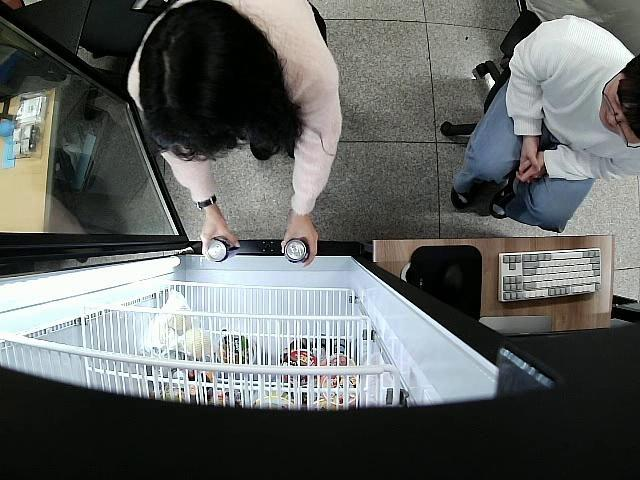14_welchsGrape: (206, 235, 241, 264), (284, 237, 308, 264)
